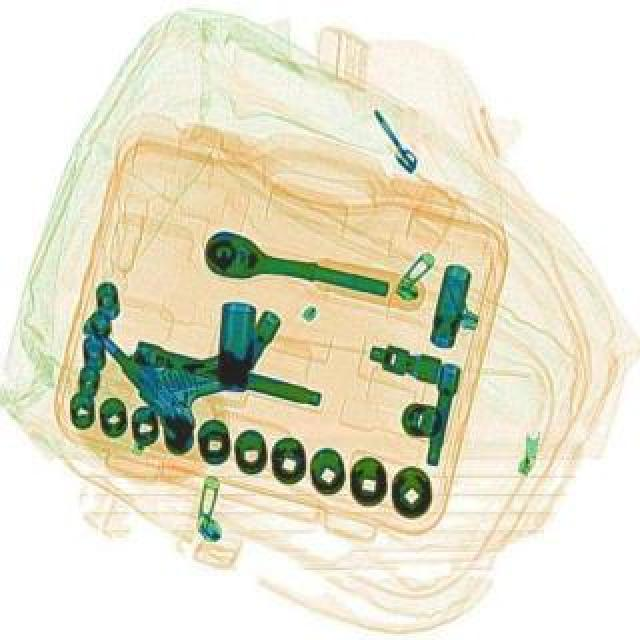gun: (80, 270, 254, 438)
